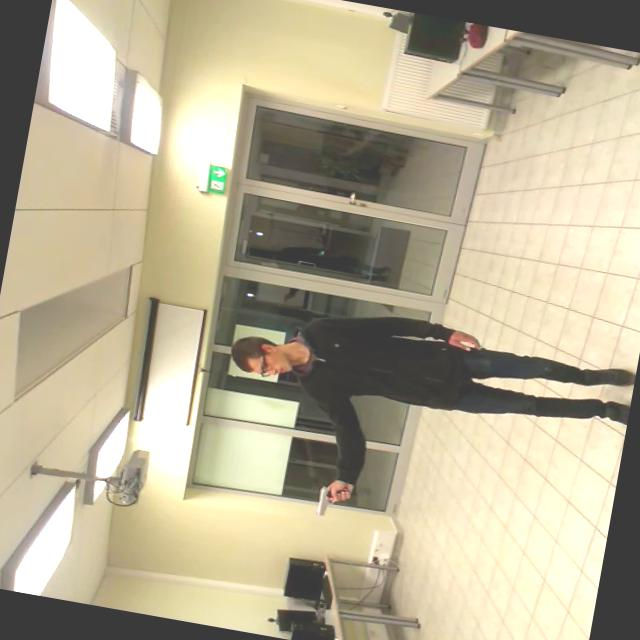handgun: (299, 466, 361, 524)
